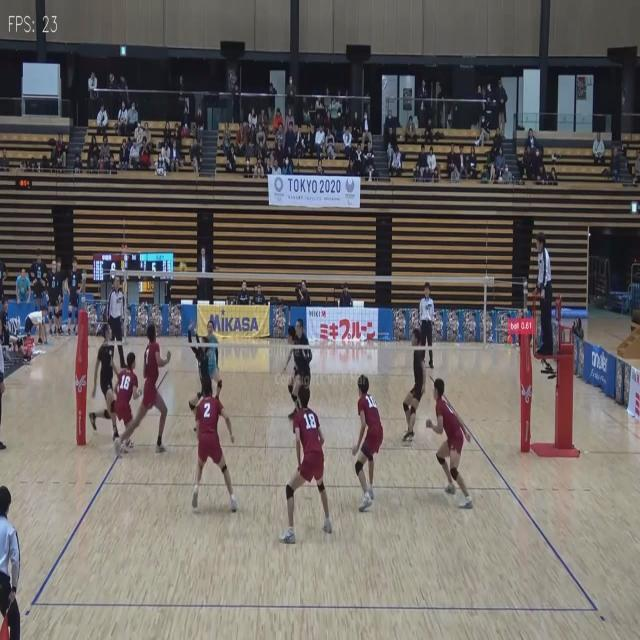volleyball: (180, 262, 188, 272)
